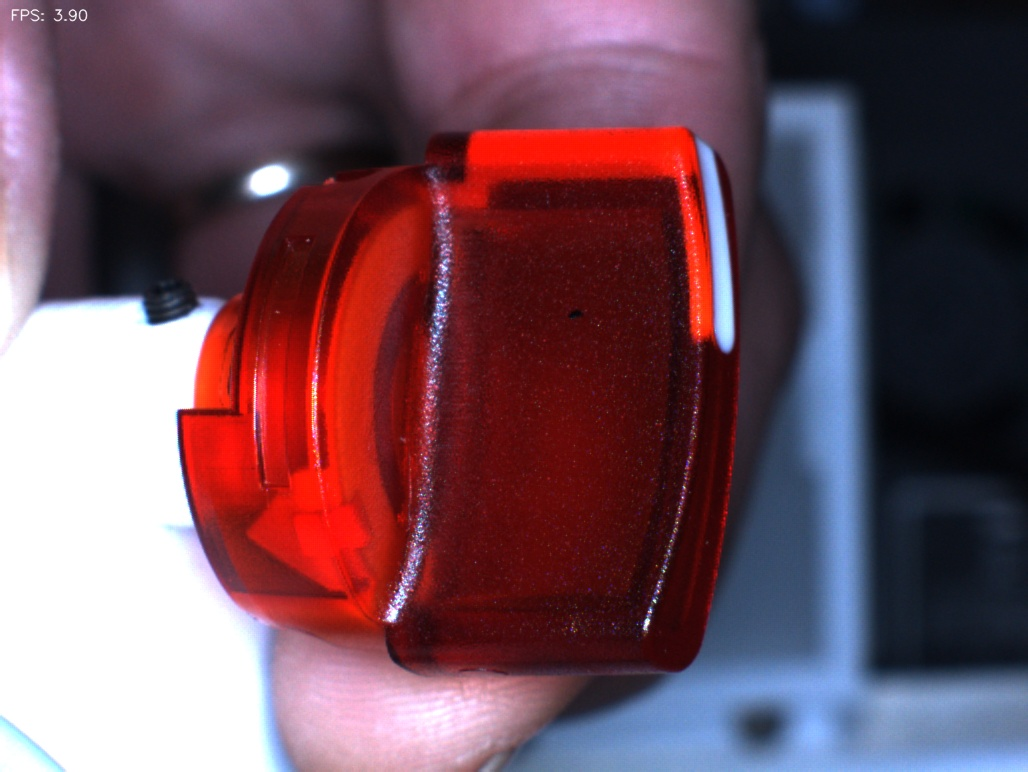PointNoir: (538, 272, 617, 350)
